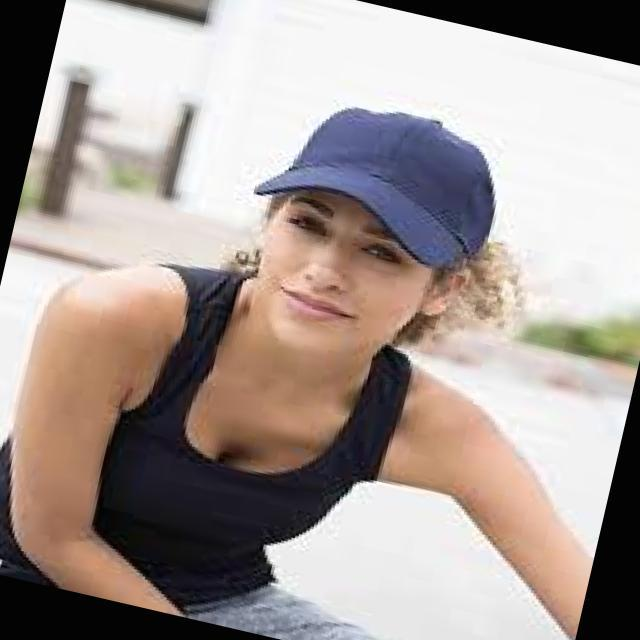cap: (207, 42, 554, 316)
